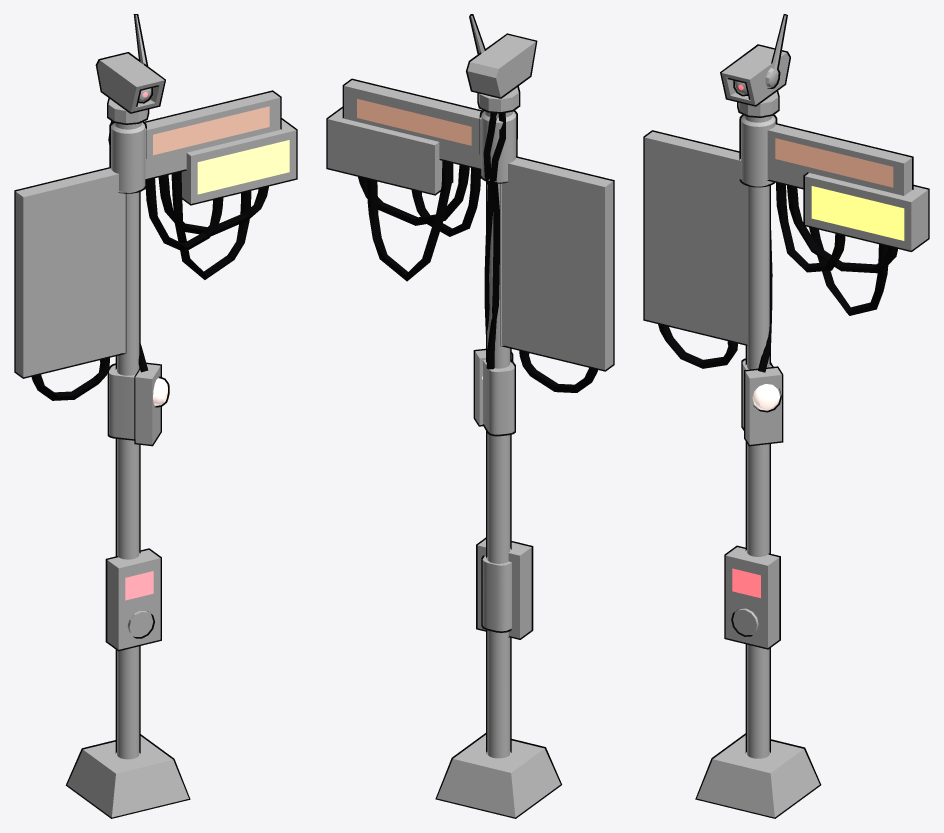
File: street light.fbx
3 renders of one model, left to right at view 1: azimuth 30°, elevation 25°; view 2: azimuth 150°, elevation 25°; view 3: azimuth 330°, elevation 25°, orthographic.
Parts seen in each view (by area): view 1: NurbsPath; view 2: NurbsPath; view 3: NurbsPath.
Boxes of the visible parts, bbox=[...] form: NurbsPath: bbox=[14, 14, 297, 818]; NurbsPath: bbox=[326, 14, 614, 818]; NurbsPath: bbox=[643, 14, 929, 818].
Size of what is drawn, in the model's own units: 173 by 51.17 by 471.
